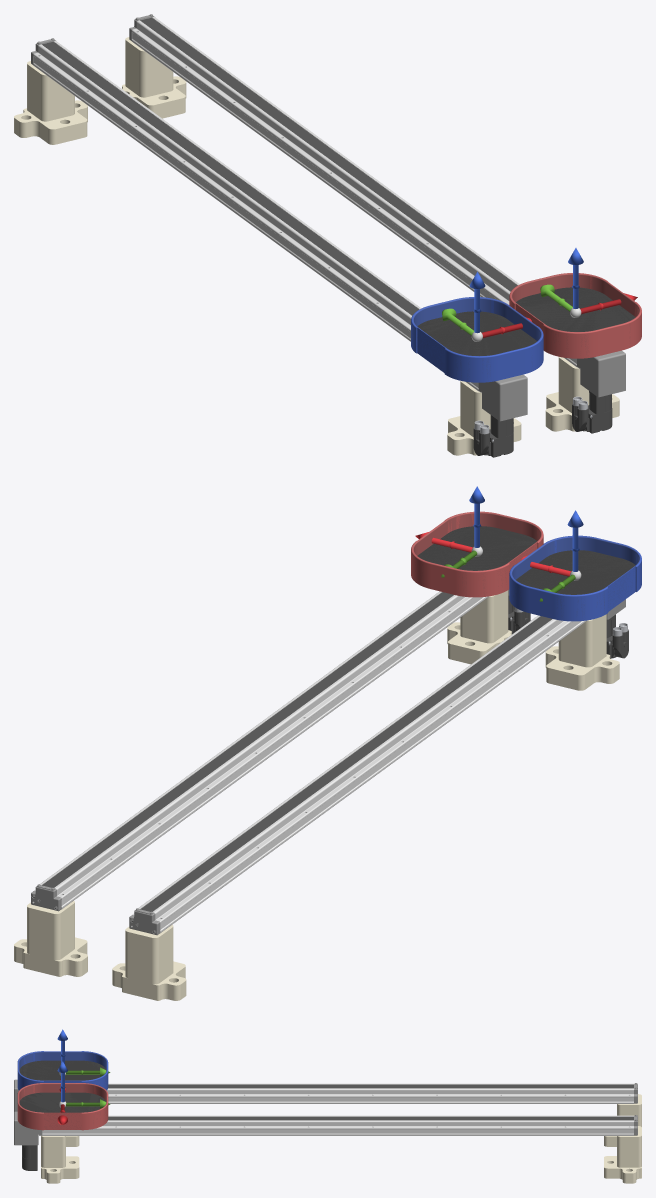
File: SMC_LEFB25_14000.fbx
3 renders of one model, top to bottom at view 1: azimuth 30°, elevation 25°; view 2: azimuth 150°, elevation 25°; view 3: azimuth 270°, elevation 25°, orthographic. The views are drawn at different scales.
Parts seen in each view (by area): view 1: SMC_LEFB25_14000_ID_001, SMC_LEFB25_14000_ID_002, Shuttle_SMC_LEFB25_14000_ID_001, Shuttle_SMC_LEFB25_14000_ID_002, Shuttle_Ghost_SMC_LEFB25_14000_ID_002, Shuttle_Ghost_SMC_LEFB25_14000_ID_001; view 2: SMC_LEFB25_14000_ID_001, SMC_LEFB25_14000_ID_002, Shuttle_SMC_LEFB25_14000_ID_001, Shuttle_SMC_LEFB25_14000_ID_002, Shuttle_Ghost_SMC_LEFB25_14000_ID_001, Shuttle_Ghost_SMC_LEFB25_14000_ID_002; view 3: SMC_LEFB25_14000_ID_002, SMC_LEFB25_14000_ID_001, Shuttle_SMC_LEFB25_14000_ID_002, Shuttle_SMC_LEFB25_14000_ID_001, Shuttle_Ghost_SMC_LEFB25_14000_ID_002, Shuttle_Ghost_SMC_LEFB25_14000_ID_001.
Part boxes in pixels (<box>): SMC_LEFB25_14000_ID_001: <box>14,38,527,457</box>; SMC_LEFB25_14000_ID_002: <box>122,14,625,433</box>; Shuttle_SMC_LEFB25_14000_ID_001: <box>411,297,543,382</box>; Shuttle_SMC_LEFB25_14000_ID_002: <box>509,273,641,358</box>; Shuttle_Ghost_SMC_LEFB25_14000_ID_002: <box>511,273,639,331</box>; Shuttle_Ghost_SMC_LEFB25_14000_ID_001: <box>413,298,541,355</box>; SMC_LEFB25_14000_ID_001: <box>112,599,628,1000</box>; SMC_LEFB25_14000_ID_002: <box>14,589,530,976</box>; Shuttle_SMC_LEFB25_14000_ID_001: <box>509,535,641,621</box>; Shuttle_SMC_LEFB25_14000_ID_002: <box>411,511,543,597</box>; Shuttle_Ghost_SMC_LEFB25_14000_ID_001: <box>511,536,639,605</box>; Shuttle_Ghost_SMC_LEFB25_14000_ID_002: <box>413,512,541,570</box>; SMC_LEFB25_14000_ID_002: <box>14,1111,641,1183</box>; SMC_LEFB25_14000_ID_001: <box>14,1079,641,1146</box>; Shuttle_SMC_LEFB25_14000_ID_002: <box>17,1083,108,1130</box>; Shuttle_SMC_LEFB25_14000_ID_001: <box>17,1051,108,1090</box>; Shuttle_Ghost_SMC_LEFB25_14000_ID_002: <box>19,1083,106,1112</box>; Shuttle_Ghost_SMC_LEFB25_14000_ID_001: <box>19,1051,106,1080</box>.
Size of what is drawn, in the model's own units: 42.15 by 32.6 by 166.
